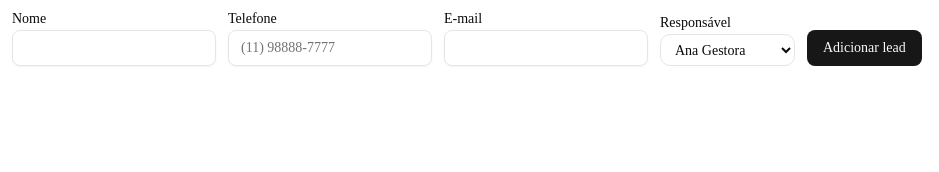
LeadForm › telefone inválido: mostra a mensagem do servidor e NÃO apaga o que foi digitado
Type "Cliente Teste" into the field labelled "Nome" at (114, 48), box left=12, top=30, right=216, bottom=66
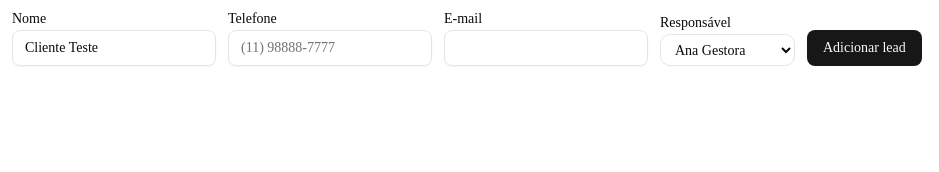
Type "11988887777" into the field labelled "Telefone" at (330, 48), box left=228, top=30, right=432, bottom=66
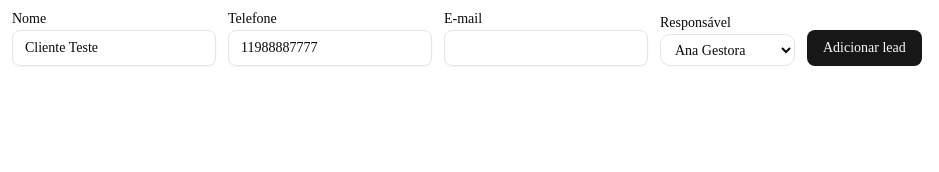
Click the button "Adicionar lead" at (864, 48), box left=807, top=30, right=922, bottom=66
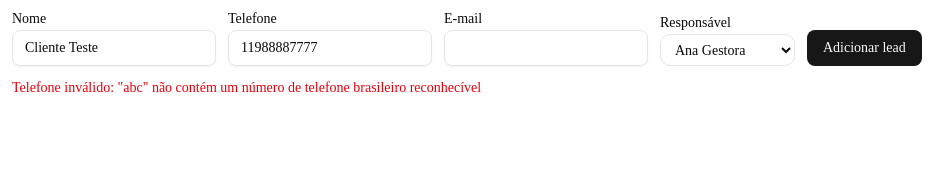
Result: the text "Telefone inválido: \"abc\" não contém um número de telefone brasileiro reconhecível" is shown at left=12, top=80, right=481, bottom=95
